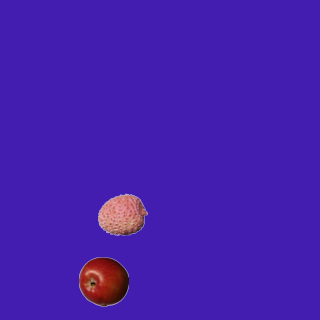Apple Braeburn: (78, 256, 128, 306)
Lychee: (97, 189, 147, 239)
